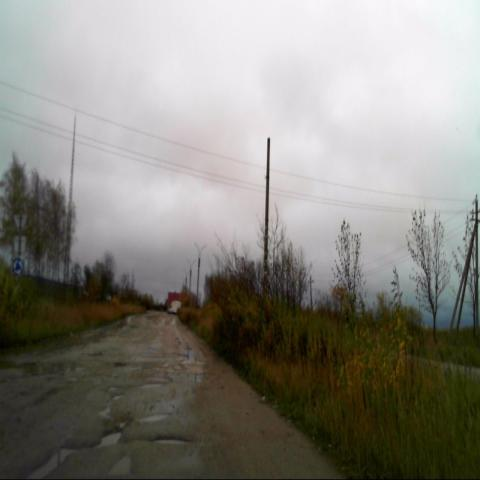4_3: (11, 254, 25, 278)
